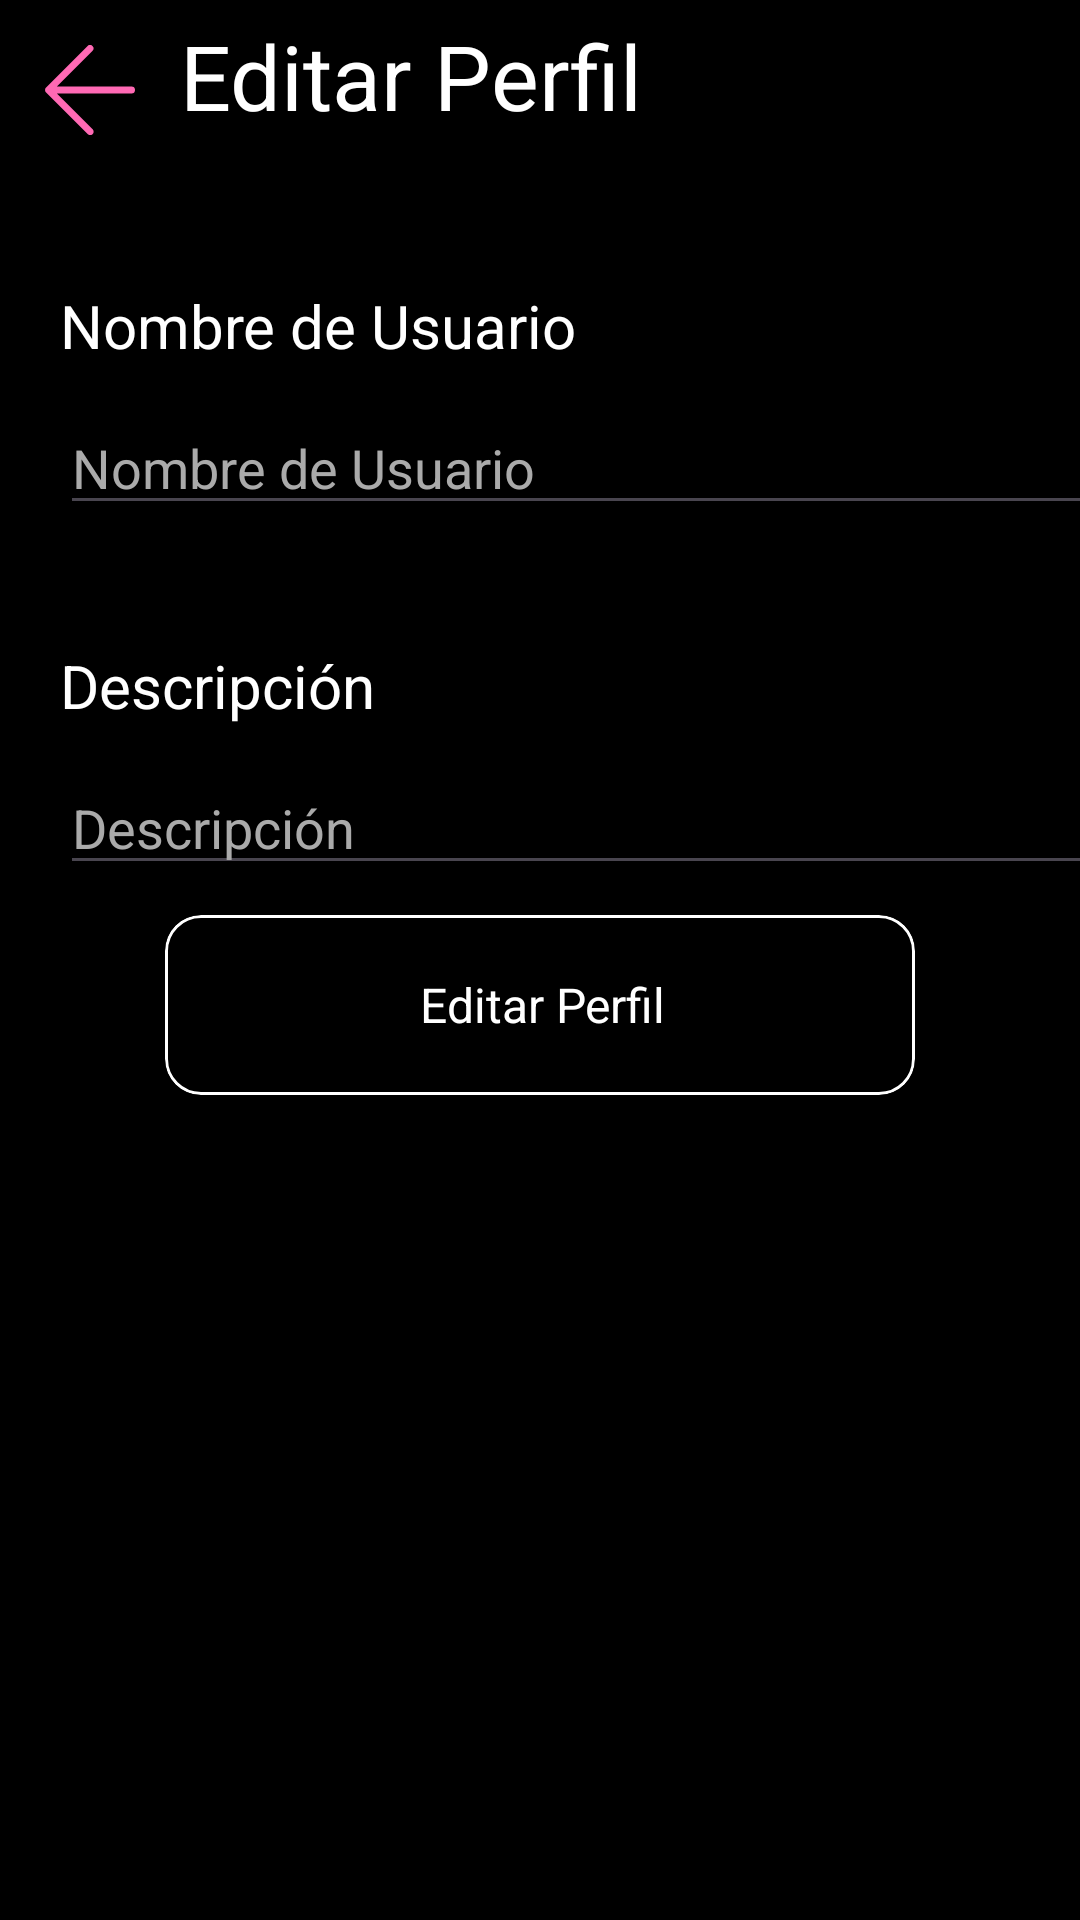

Where icons sit on this 1080px×1920px app screen, as bbox(x1, y1, x2, y2):
flecha atras: bbox(45, 45, 135, 135)
